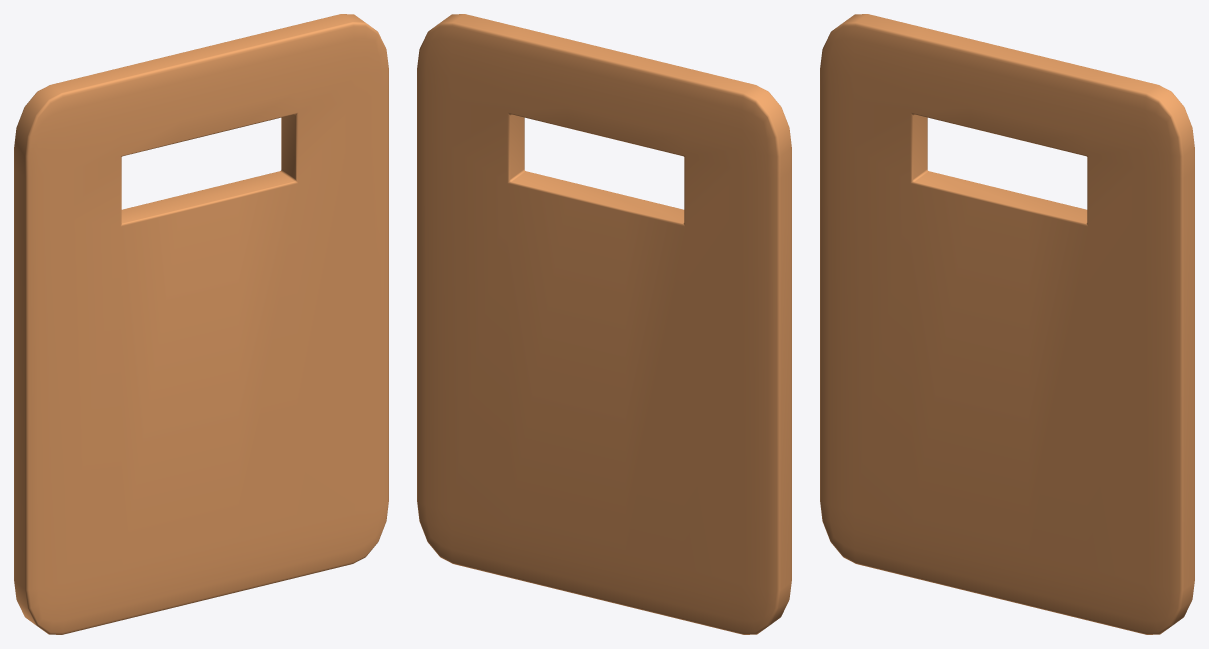
The model's file is cuttingboard.fbx.
The picture shows the model from 3 angles, left to right: view 1: azimuth 30°, elevation 25°; view 2: azimuth 150°, elevation 25°; view 3: azimuth 330°, elevation 25°; orthographic projection.
Visible parts, largest first — view 1: cuttingTable; view 2: cuttingTable; view 3: cuttingTable.
Part boxes in pixels (x1=…): cuttingTable: x1=14, y1=14, x2=388, y2=634; cuttingTable: x1=417, y1=14, x2=791, y2=634; cuttingTable: x1=820, y1=14, x2=1194, y2=634.
Bounding box in the file's own units: 40.94 × 58.37 × 3.12.
